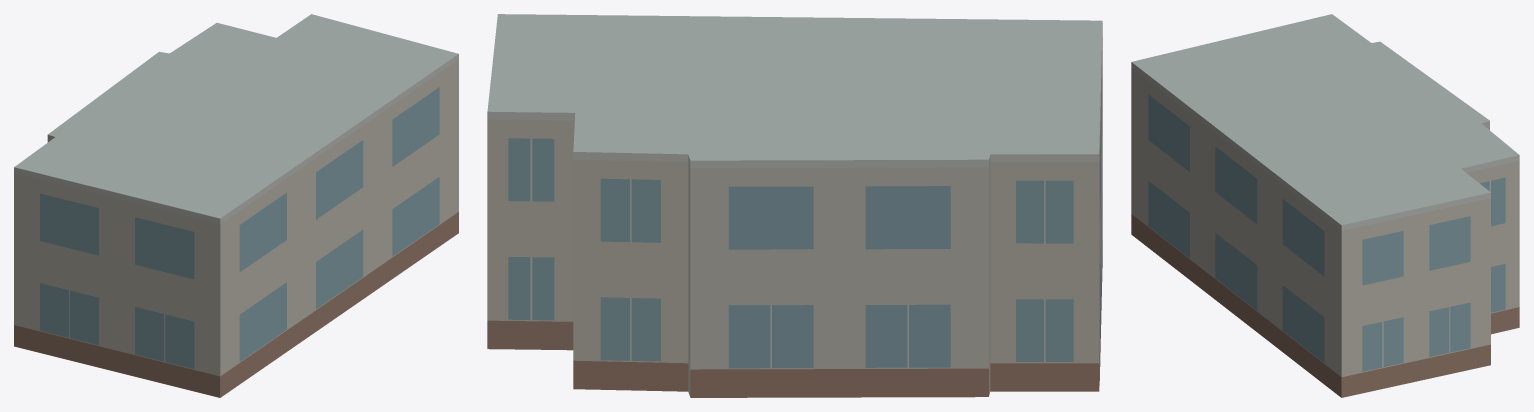
File: survey-upis-32744782.glb
3 views of the same model, side by side, from view 1: azimuth 30°, elevation 25°; view 2: azimuth 150°, elevation 25°; view 3: azimuth 270°, elevation 25° (orthographic). The views are drawn at different scales.
Parts seen in each view (by area): view 1: survey-upis-32744782.tmp; view 2: survey-upis-32744782.tmp; view 3: survey-upis-32744782.tmp.
Part boxes in pixels (x1,y1,x2,y2): survey-upis-32744782.tmp: [14, 14, 458, 397]; survey-upis-32744782.tmp: [487, 14, 1102, 397]; survey-upis-32744782.tmp: [1131, 14, 1519, 397].
Bounding box in the file's own units: 19.95 × 7.6 × 15.5.
